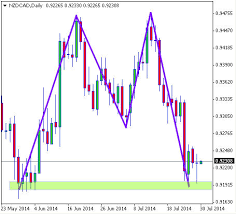M-Pattern: (39, 15, 188, 160)
